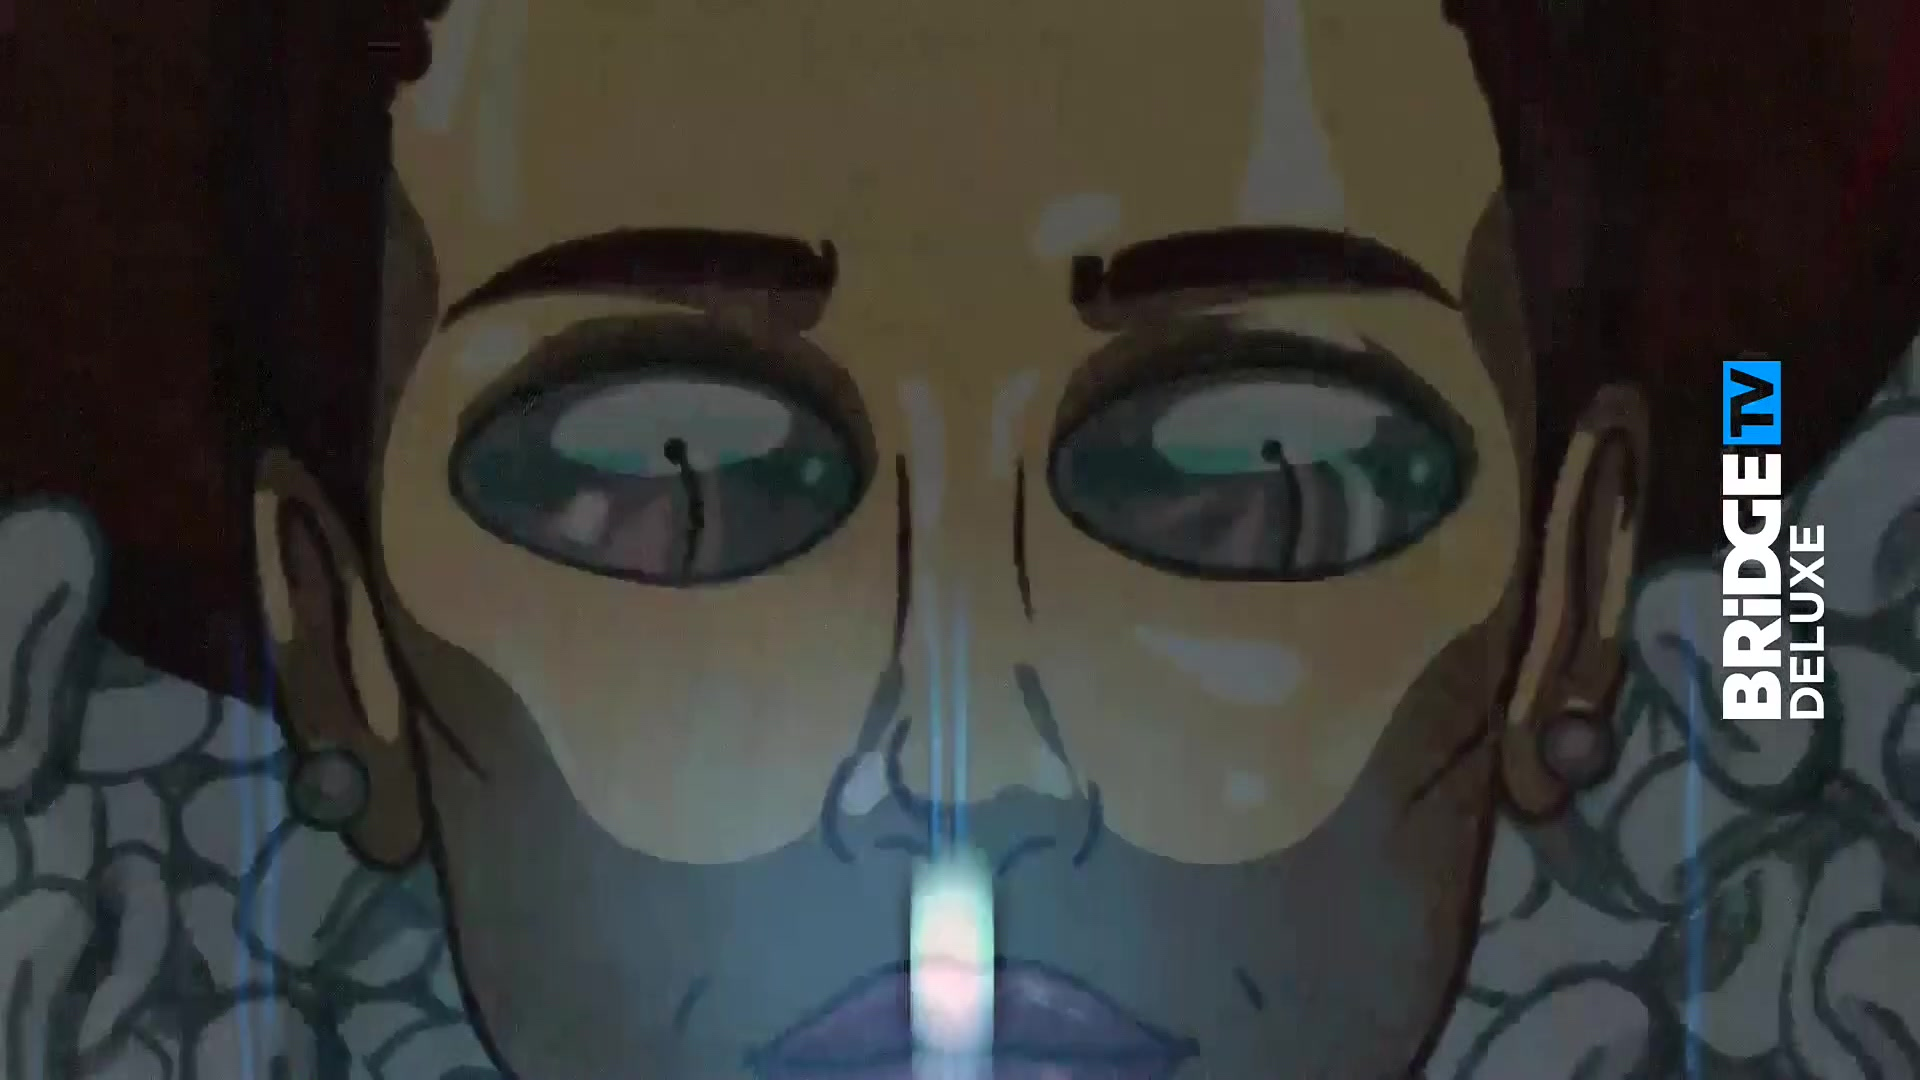Bridge_TV_Deluxe: (1718, 355, 1829, 727)
